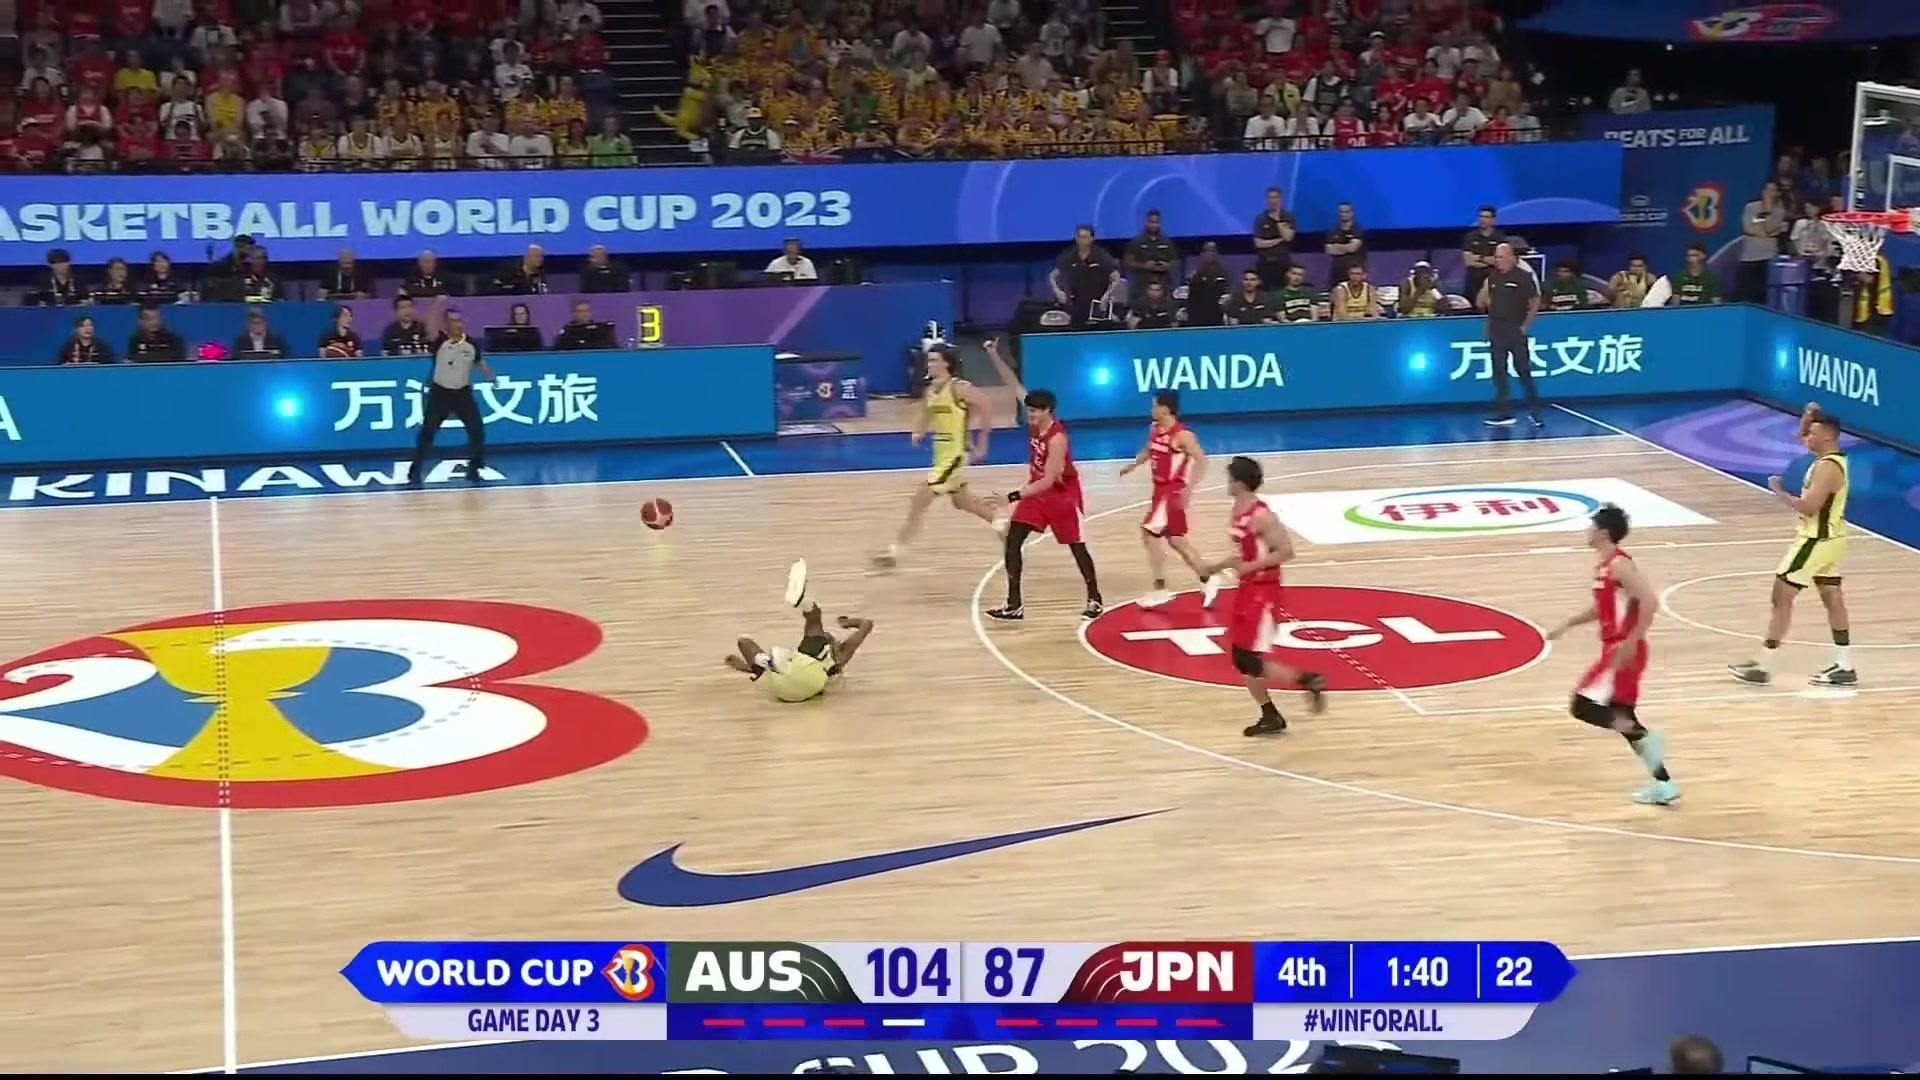foul: (684, 509, 1097, 714)
